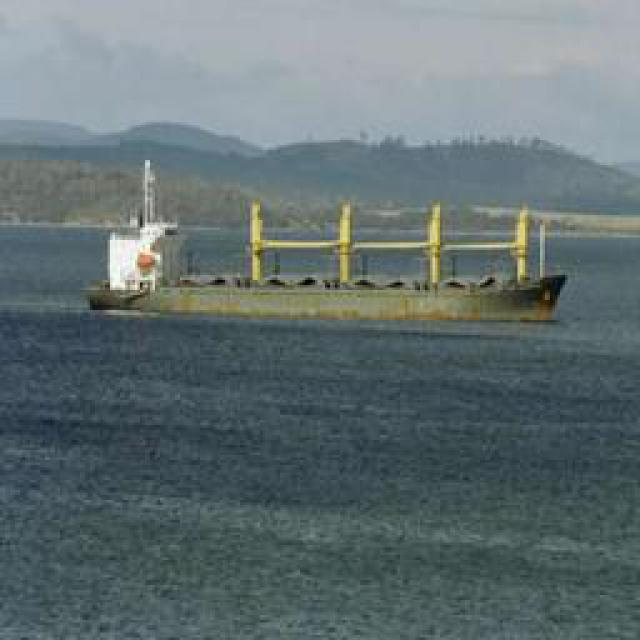Ship: (84, 163, 576, 341)
